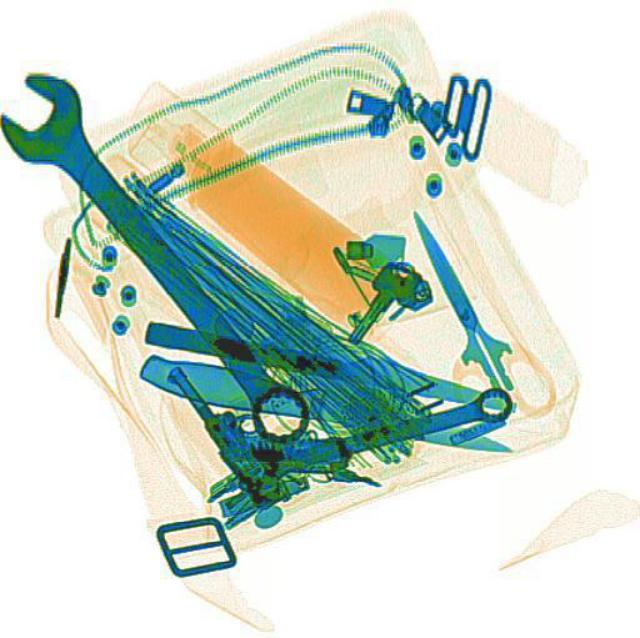Gun: (162, 316, 356, 513)
Knife: (135, 346, 515, 464), (142, 308, 520, 416), (392, 199, 526, 399)
Wrench: (0, 85, 337, 461), (232, 380, 514, 489)
